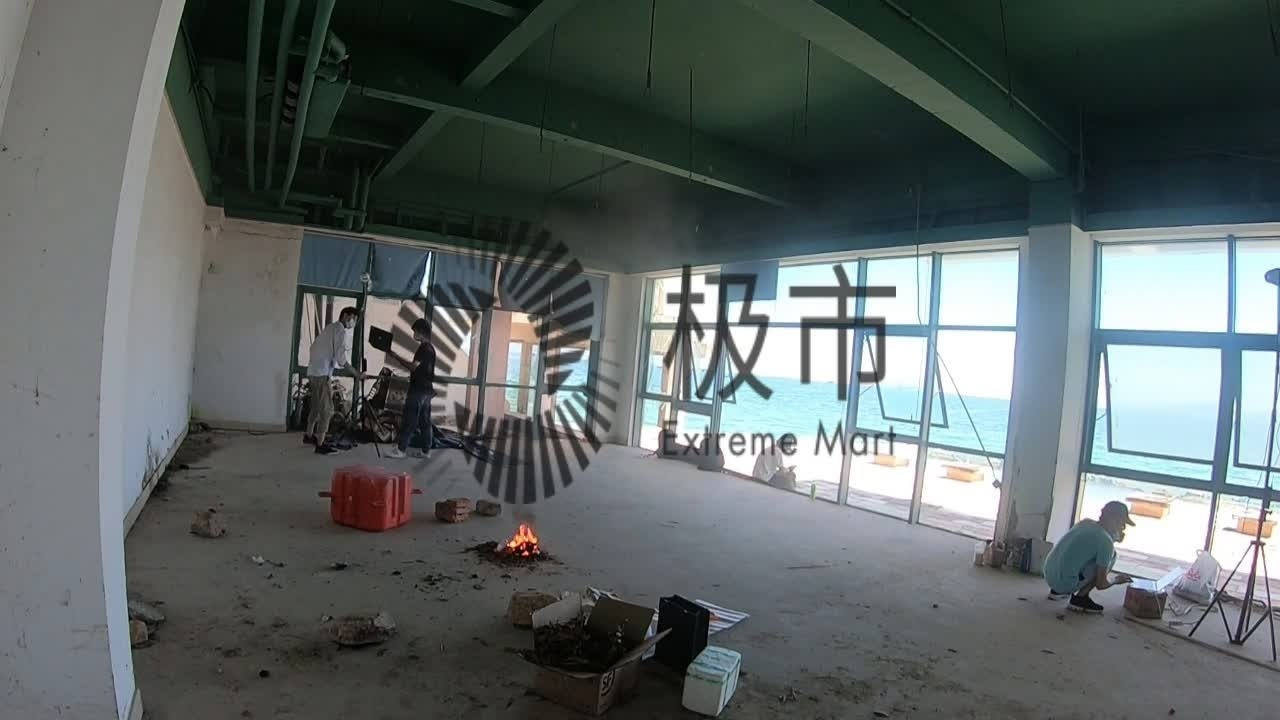fire: (497, 518, 543, 559)
